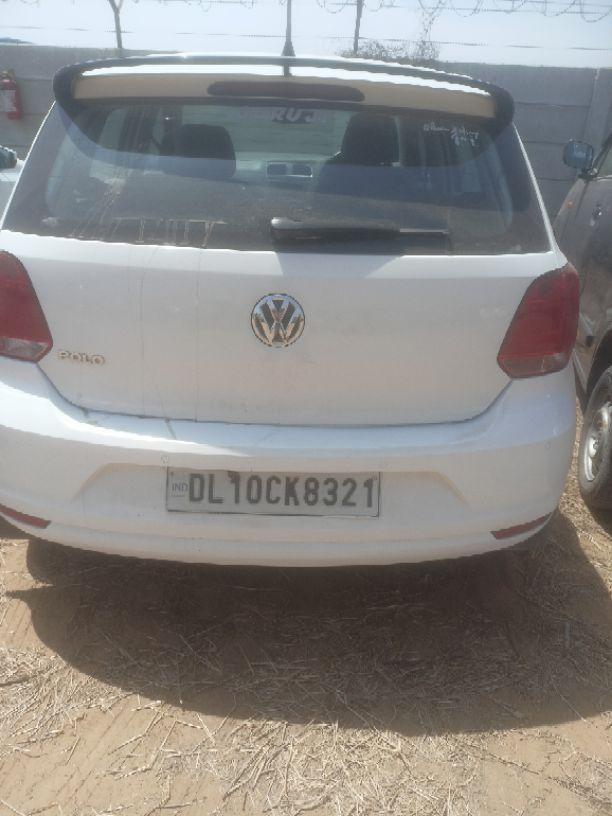license_plate: (163, 465, 381, 517)
